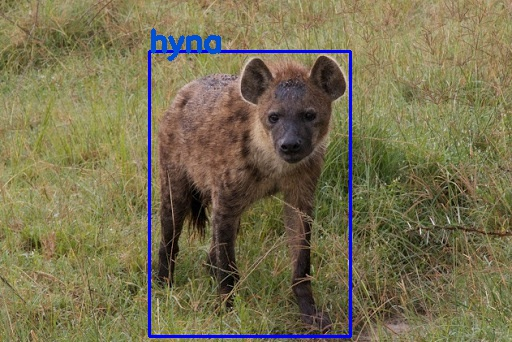hyna: (149, 50, 350, 335)
